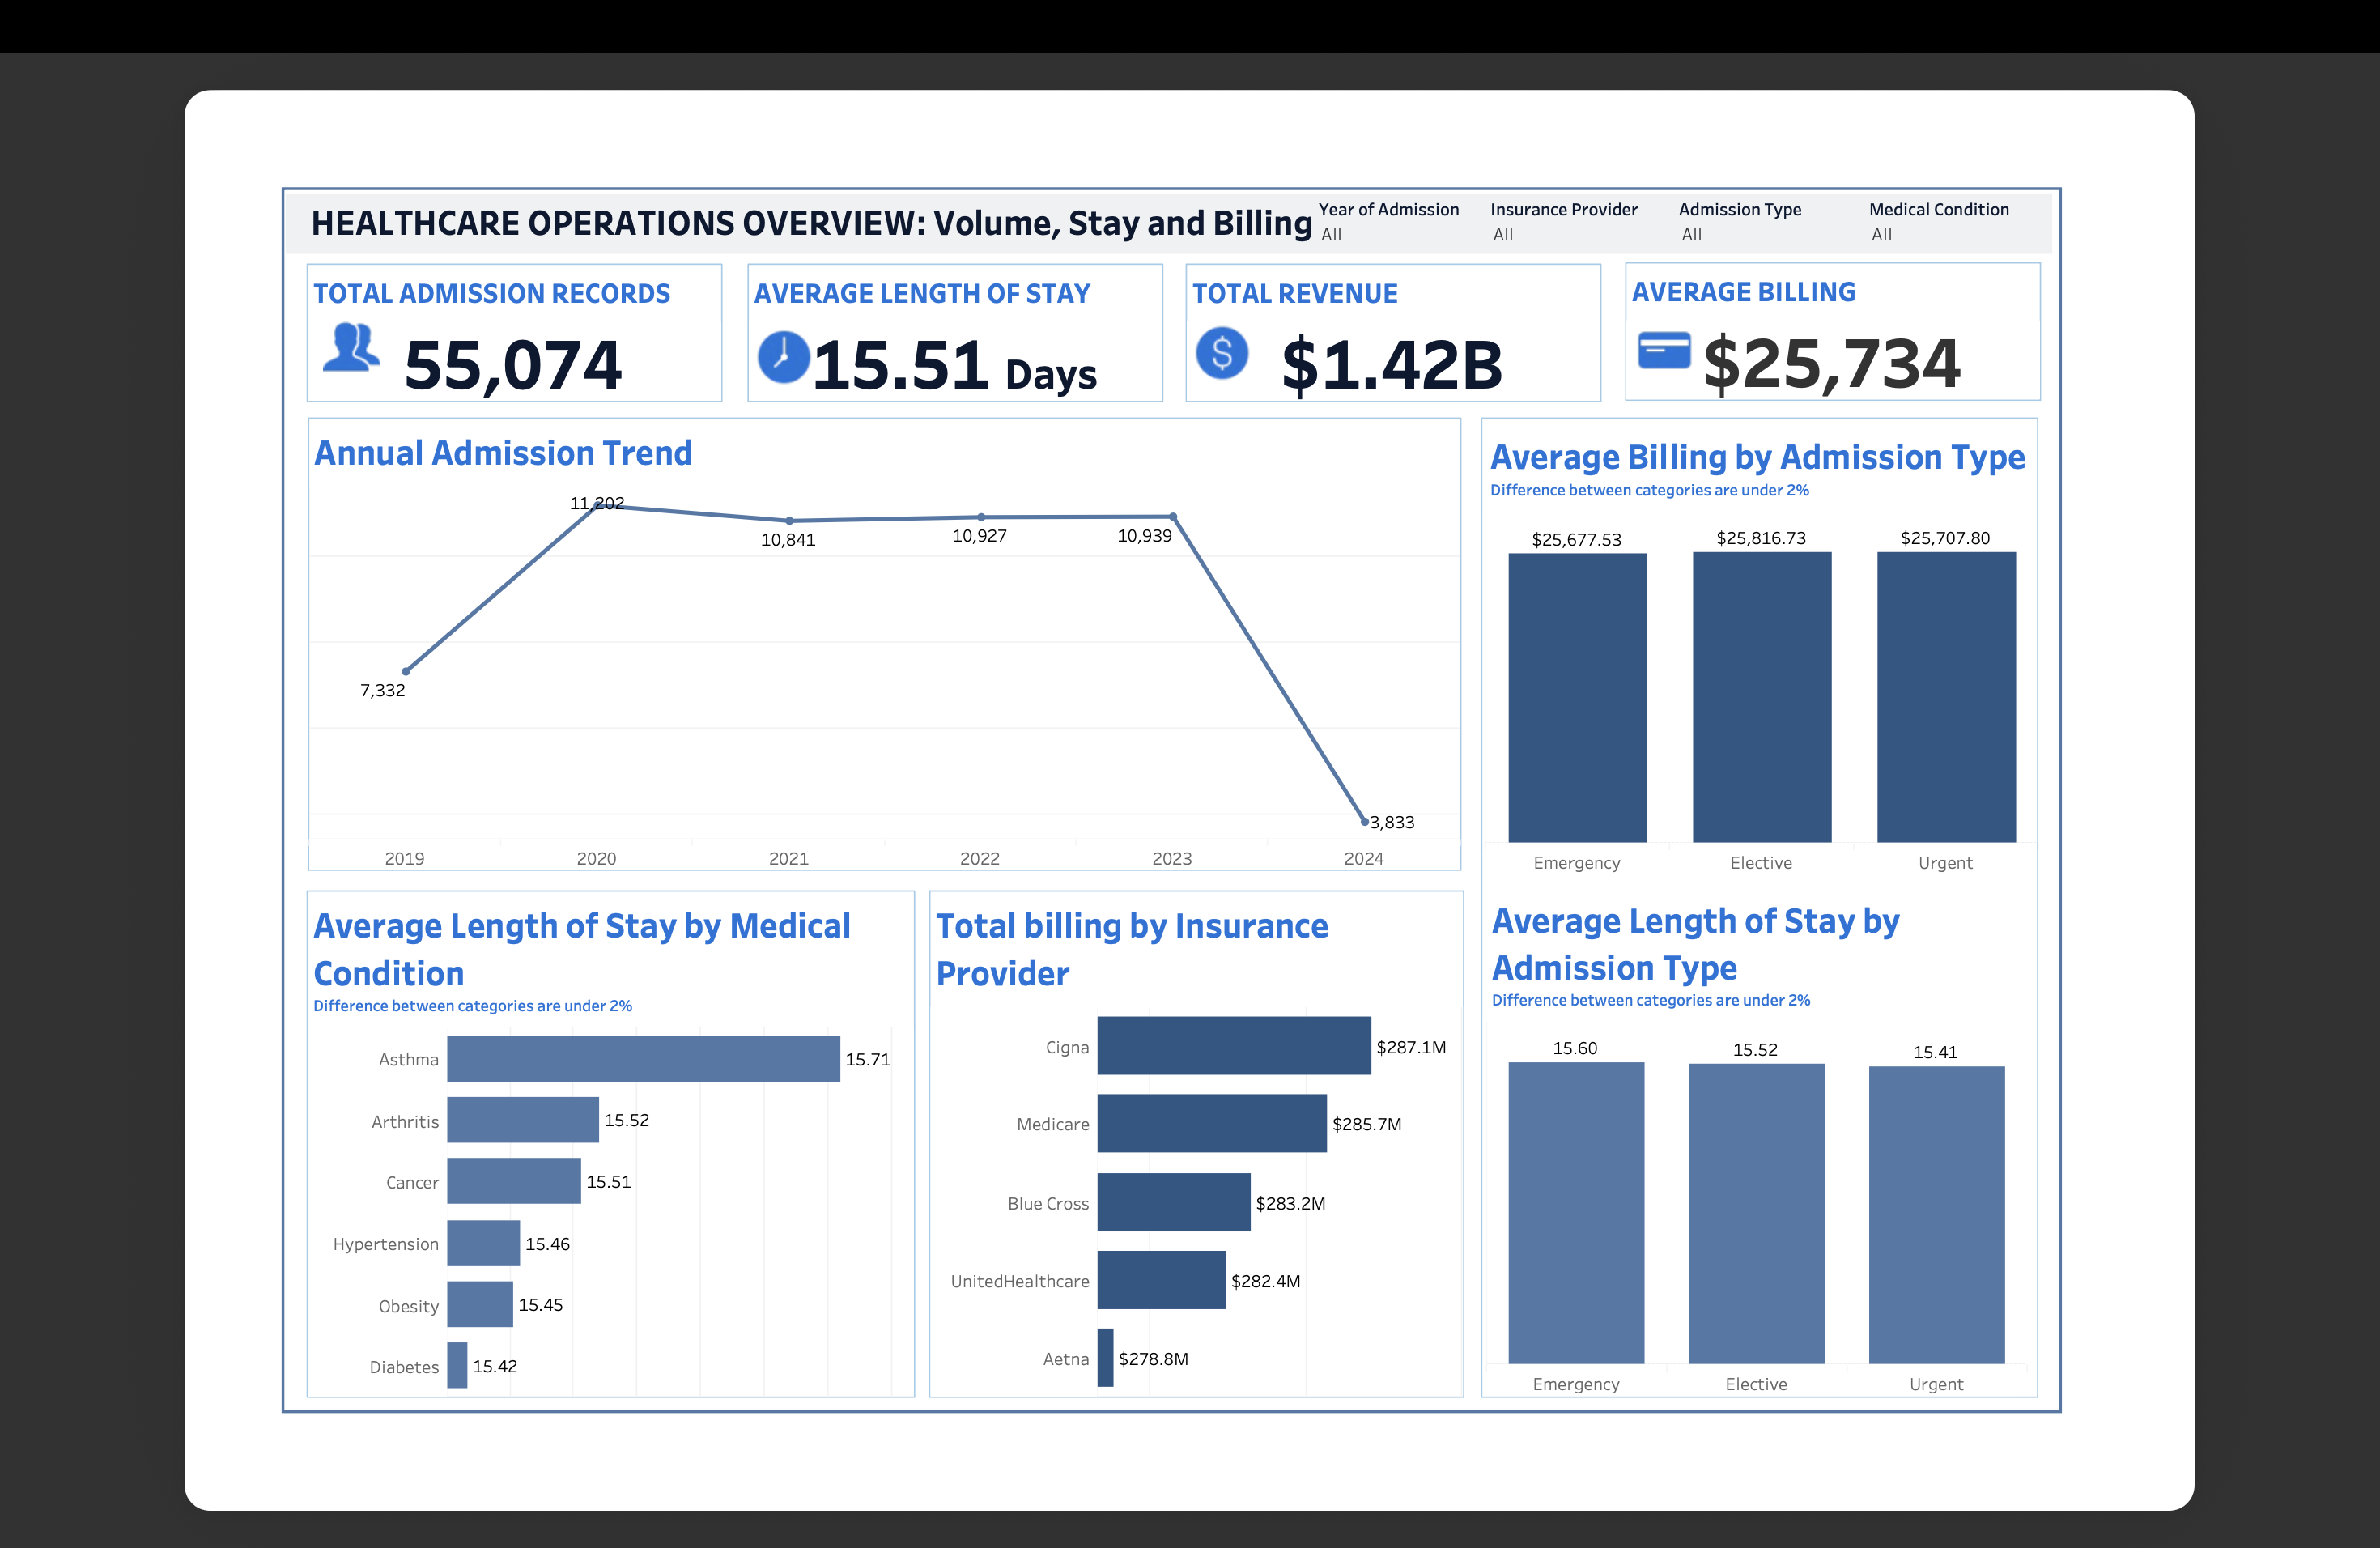

The page's visual inventory and layout, read from the dashboard file:
{"tool":"tableau","page":{"name":"Healthcare Operations Dashboard","canvas":[1300,900],"ordinal":0},"visuals":[{"type":"text","box":[27,9,816,45]},{"type":"filter","title":"Admission Trend","param":"[federated.00twixs0ppvmvj1322stk1p7vn6s].[yr:Date of Admission:ok]","box":[756,13,122,39]},{"type":"filter","title":"Insurance provider","param":"[federated.00twixs0ppvmvj1322stk1p7vn6s].[none:Insurance Provider:nk]","box":[880,13,131,56]},{"type":"filter","title":"LOS by admission type","param":"[federated.00twixs0ppvmvj1322stk1p7vn6s].[none:Admission Type:nk]","box":[1016,13,134,39]},{"type":"filter","title":"Medical Condition","param":"[federated.00twixs0ppvmvj1322stk1p7vn6s].[none:Medical Condition:nk]","box":[1153,13,129,44]},{"type":"worksheet","title":"KPI AVG Billing","mark":"Automatic","box":[977,62,300,100]},{"type":"worksheet","title":"KPI Patients","mark":"Automatic","box":[26,63,300,100]},{"type":"worksheet","title":"KPI AVG LOS","mark":"Automatic","box":[344,63,300,100]},{"type":"worksheet","title":"KPI Revenue","mark":"Automatic","box":[660,63,300,100]},{"type":"image","param":"Image/revenue.png","box":[666,96,41,64]},{"type":"image","param":"Image/patients.png","box":[38,102,41,41]},{"type":"image","param":"Image/avg bill.png","box":[985,105,41,41]},{"type":"image","param":"Image/avg los.png","box":[350,110,41,41]},{"type":"worksheet","title":"Admission Trend","mark":"Line","rows":["healthcare_dataset_clean.csv_8DA2034837BE452B88006000766D7FB"],"cols":["Date of Admission"],"box":[27,174,832,327]},{"type":"worksheet","title":"Avg Billing by admission type","mark":"Bar","rows":["Billing Amount"],"cols":["Admission Type"],"box":[876,178,399,325]},{"type":"worksheet","title":"LOS by admission type","mark":"Automatic","rows":["LOS_days"],"cols":["Admission Type"],"box":[877,512,390,367]},{"type":"worksheet","title":"Medical Condition","mark":"Automatic","rows":["Medical Condition"],"cols":["LOS_days"],"box":[26,515,439,366]},{"type":"worksheet","title":"Insurance provider","mark":"Bar","rows":["Insurance Provider"],"cols":["Billing Amount"],"box":[475,515,386,366]}]}

Visuals, with their boxes on the page's 1300x900 design canvas (x1, y1, x2, y2). These are canvas units, not pixel positions in the 2380x1548 screenshot, which may show the page scaled, cropped or inside an application window:
text: {"left": 27, "top": 9, "right": 843, "bottom": 54}
"Admission Trend" filter: {"left": 756, "top": 13, "right": 878, "bottom": 52}
"Insurance provider" filter: {"left": 880, "top": 13, "right": 1011, "bottom": 69}
"LOS by admission type" filter: {"left": 1016, "top": 13, "right": 1150, "bottom": 52}
"Medical Condition" filter: {"left": 1153, "top": 13, "right": 1282, "bottom": 57}
"KPI AVG Billing" worksheet: {"left": 977, "top": 62, "right": 1277, "bottom": 162}
"KPI Patients" worksheet: {"left": 26, "top": 63, "right": 326, "bottom": 163}
"KPI AVG LOS" worksheet: {"left": 344, "top": 63, "right": 644, "bottom": 163}
"KPI Revenue" worksheet: {"left": 660, "top": 63, "right": 960, "bottom": 163}
image: {"left": 666, "top": 96, "right": 707, "bottom": 160}
image: {"left": 38, "top": 102, "right": 79, "bottom": 143}
image: {"left": 985, "top": 105, "right": 1026, "bottom": 146}
image: {"left": 350, "top": 110, "right": 391, "bottom": 151}
"Admission Trend" worksheet (Line marks): {"left": 27, "top": 174, "right": 859, "bottom": 501}
"Avg Billing by admission type" worksheet (Bar marks): {"left": 876, "top": 178, "right": 1275, "bottom": 503}
"LOS by admission type" worksheet: {"left": 877, "top": 512, "right": 1267, "bottom": 879}
"Medical Condition" worksheet: {"left": 26, "top": 515, "right": 465, "bottom": 881}
"Insurance provider" worksheet (Bar marks): {"left": 475, "top": 515, "right": 861, "bottom": 881}
